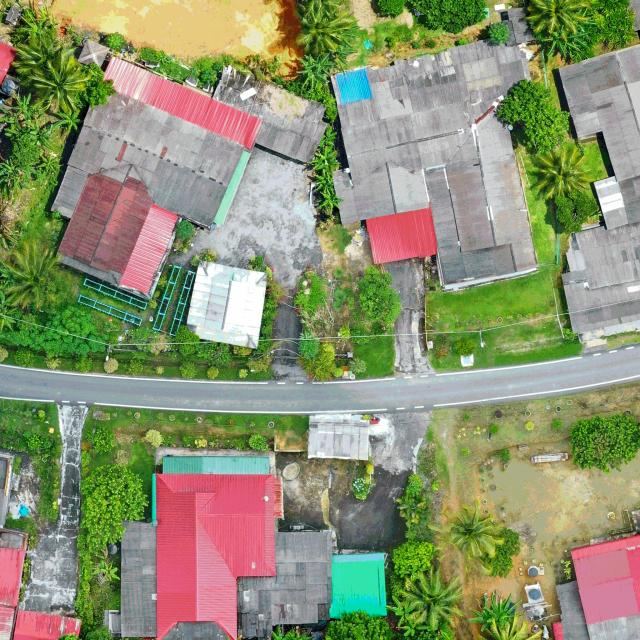Tree: (78, 462, 150, 546), (494, 78, 572, 150), (0, 240, 67, 310), (568, 413, 640, 475), (526, 142, 594, 202), (402, 569, 466, 632), (20, 52, 86, 112), (37, 304, 108, 358), (442, 499, 506, 557), (293, 0, 356, 57), (409, 0, 490, 34), (525, 0, 595, 39), (357, 265, 402, 324), (470, 590, 528, 632), (594, 0, 638, 51), (479, 529, 521, 579), (73, 61, 117, 108), (554, 189, 600, 233), (0, 91, 42, 138), (294, 341, 338, 382), (390, 538, 435, 578), (296, 52, 338, 92), (0, 157, 35, 200), (0, 282, 23, 334), (385, 595, 416, 628), (197, 339, 231, 369), (49, 108, 83, 137), (306, 144, 342, 170), (84, 424, 115, 454), (174, 326, 200, 358), (129, 328, 159, 353), (91, 560, 121, 581), (318, 191, 344, 215), (486, 22, 510, 46), (12, 344, 36, 368), (36, 154, 63, 175), (376, 0, 406, 18), (427, 621, 455, 640), (315, 168, 334, 194), (174, 218, 196, 240), (104, 31, 127, 52), (348, 356, 368, 380), (142, 428, 164, 449), (72, 356, 96, 374), (403, 620, 430, 636), (248, 432, 270, 451), (352, 476, 368, 501), (318, 126, 336, 147), (103, 357, 119, 375), (128, 360, 144, 376)
